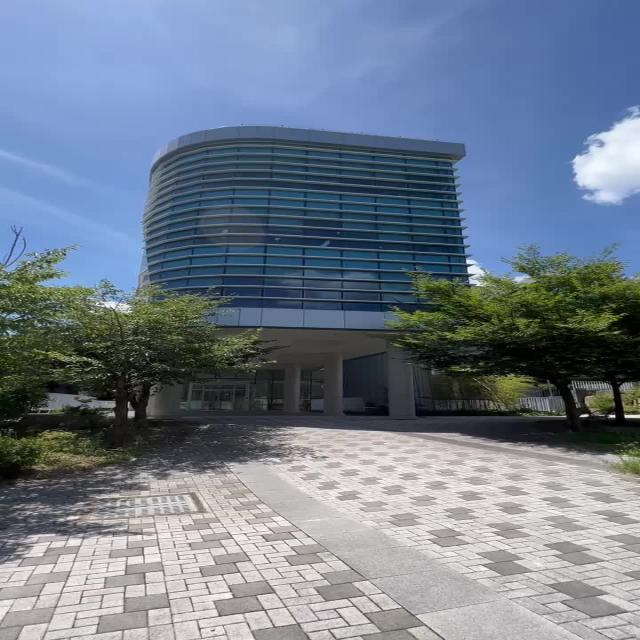building: (89, 120, 492, 292)
